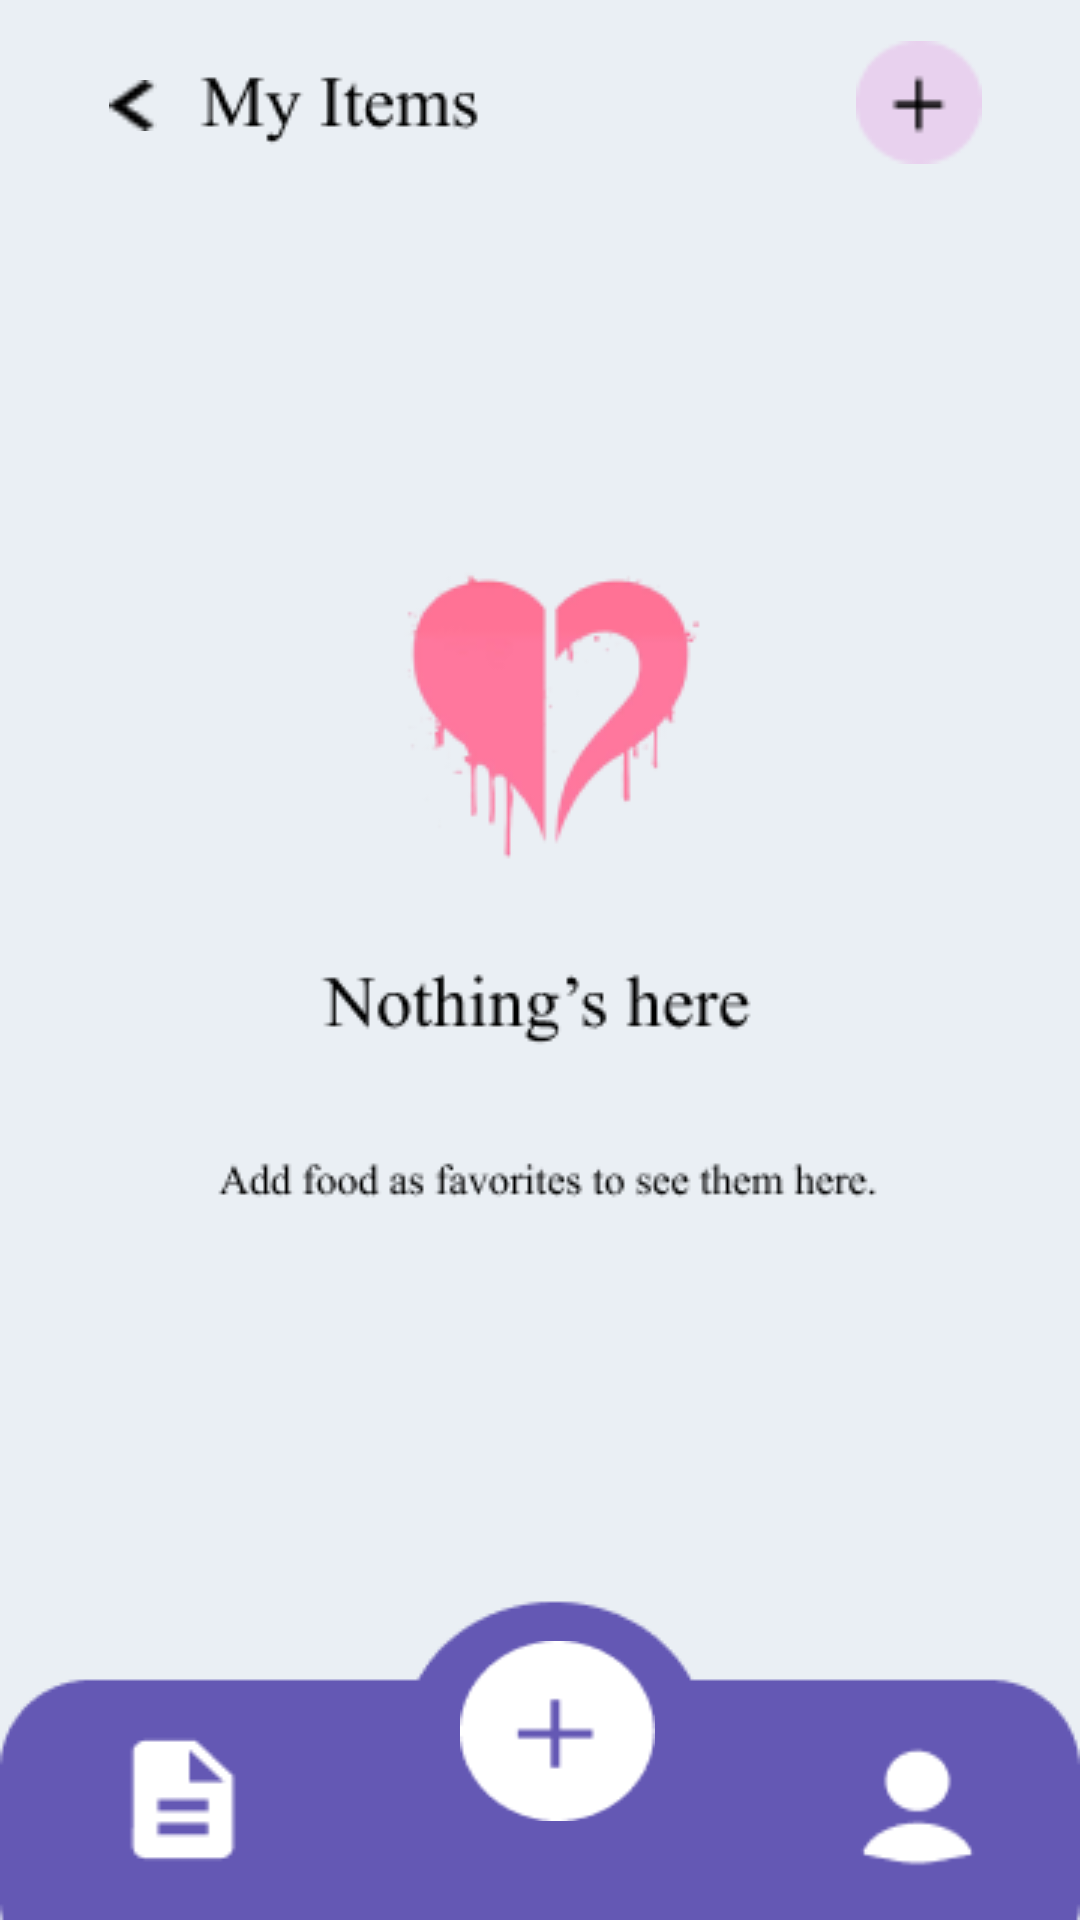

Where to tap for icons on this 1080x1920 app screen, as [x,y]:
description: [182,1799]
plus: [919,102], [557,1731]
user: [917,1807]
